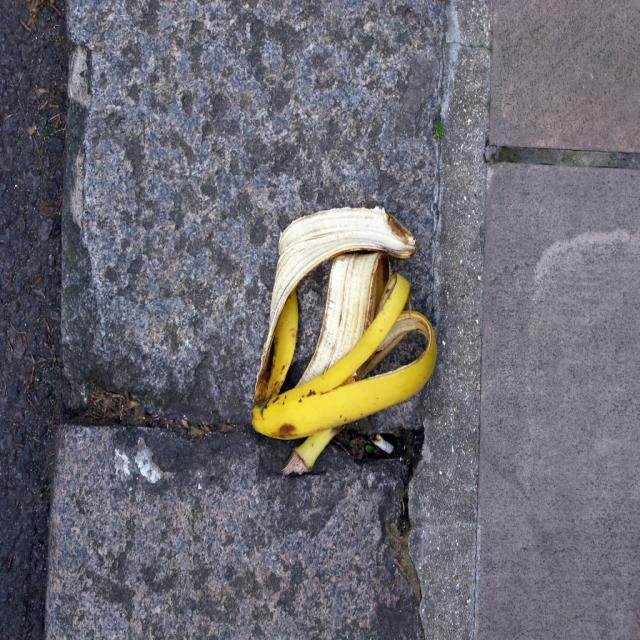Banana: (250, 200, 432, 470)
